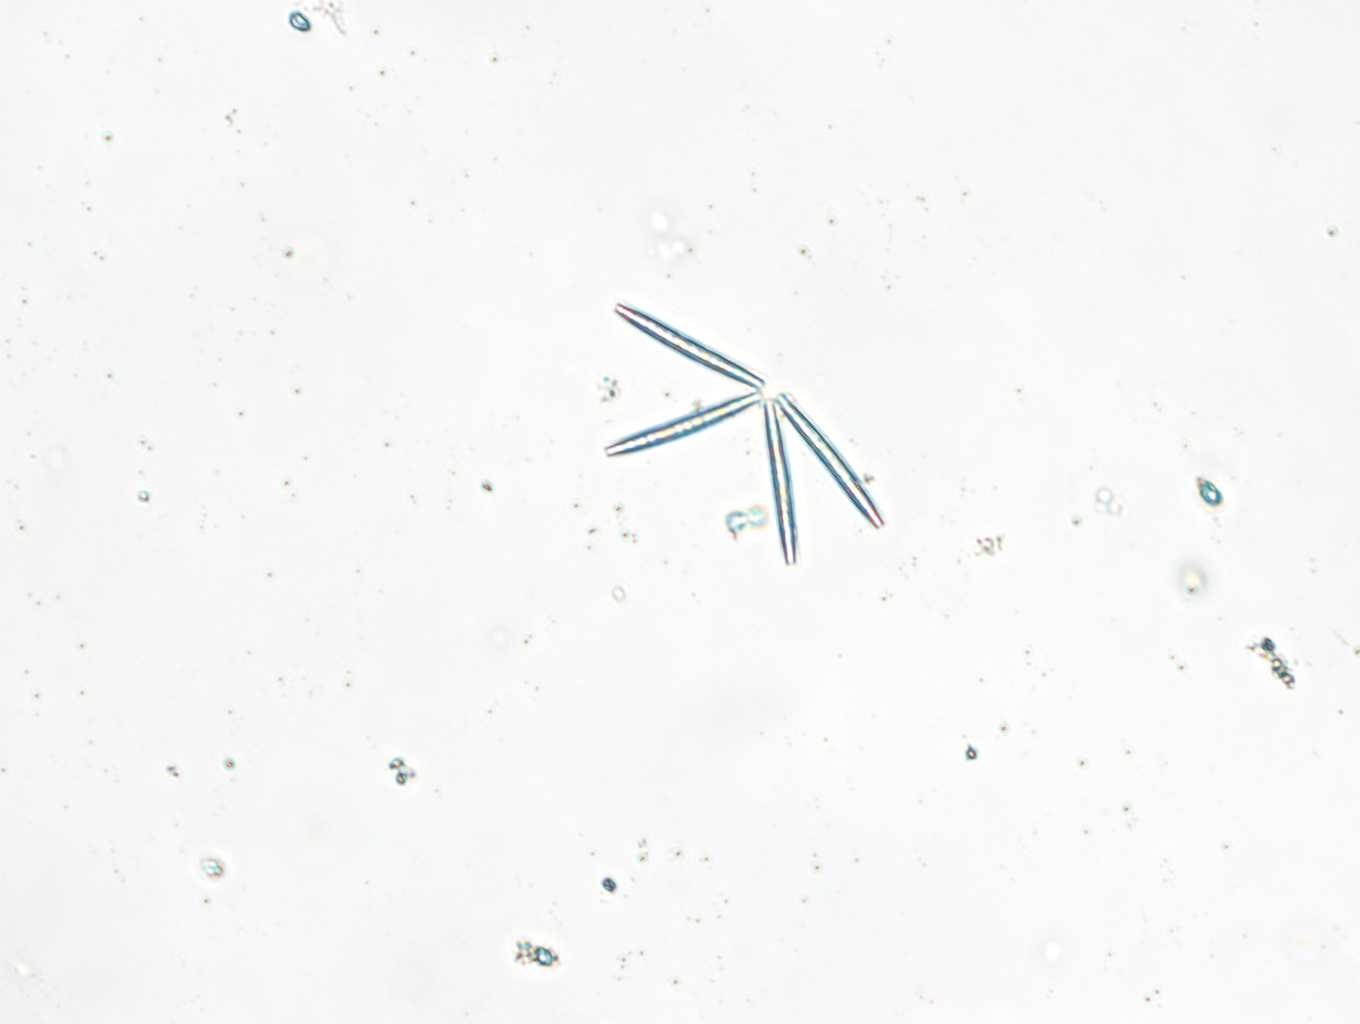thalassionema nitzschioides: (603, 300, 883, 565)
